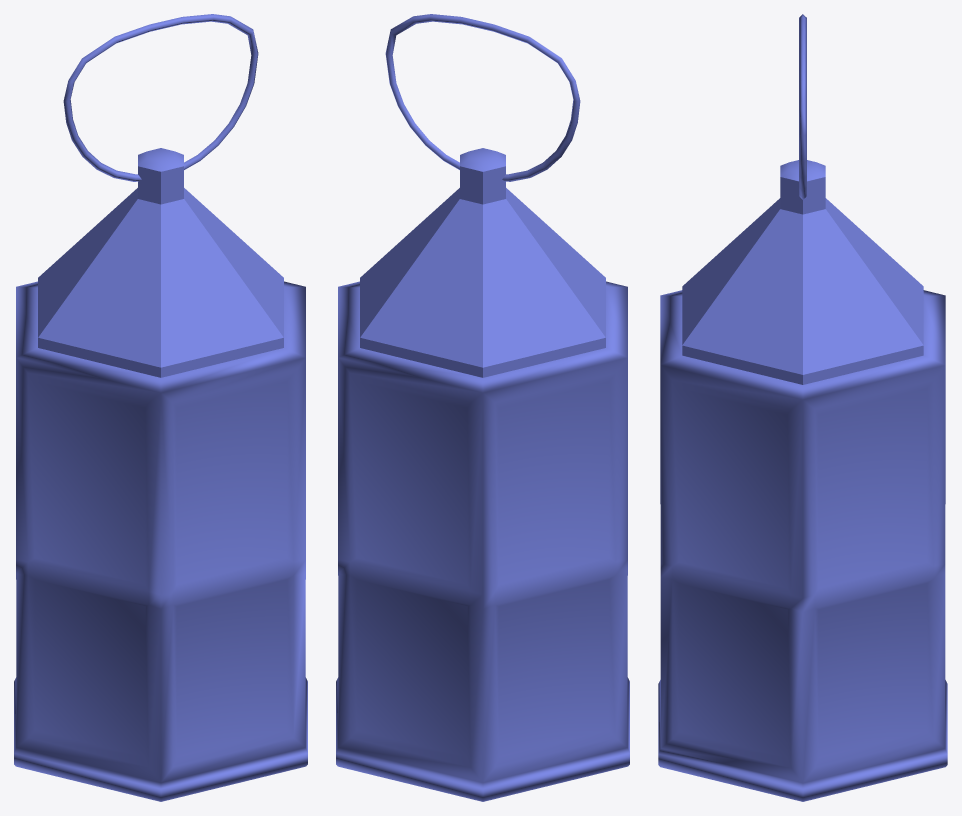
The model's file is Lantern-1.fbx.
The picture shows the model from 3 angles, left to right: view 1: azimuth 30°, elevation 25°; view 2: azimuth 150°, elevation 25°; view 3: azimuth 270°, elevation 25°; orthographic projection.
Visible parts, largest first — view 1: LAMP_LOW.001; view 2: LAMP_LOW.001; view 3: LAMP_LOW.001.
Boxes of the visible parts, x1,y1,x2,y2 form: LAMP_LOW.001: (14, 14, 307, 801); LAMP_LOW.001: (336, 14, 629, 801); LAMP_LOW.001: (658, 14, 947, 801).
Bounding box in the file's own units: 37.06 × 85.47 × 32.1.
